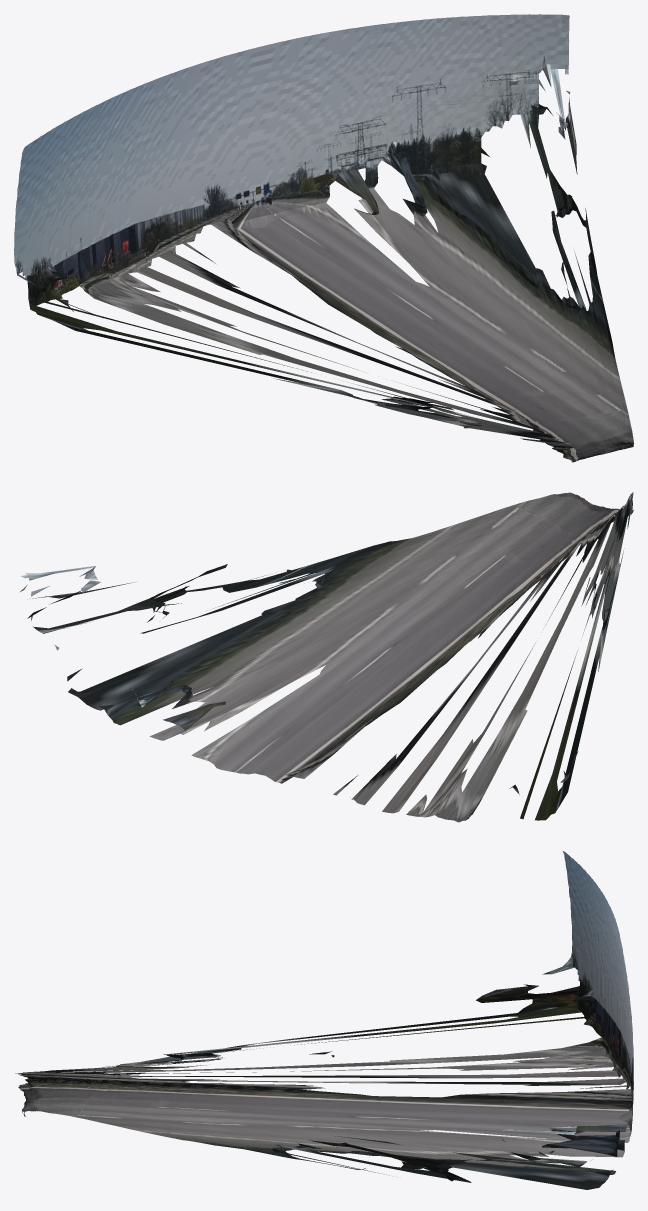
The picture shows the model from 3 angles, top to bottom: view 1: azimuth 30°, elevation 25°; view 2: azimuth 150°, elevation 25°; view 3: azimuth 270°, elevation 25°; orthographic projection. The views are drawn at different scales.
Visible parts, largest first — view 1: defaultobject; view 2: defaultobject; view 3: defaultobject.
Boxes of the visible parts, box(x1,y1,x2,y2) form: defaultobject: box(14, 14, 633, 462); defaultobject: box(19, 492, 633, 822); defaultobject: box(15, 851, 633, 1189).
Size of the model in its own units: 41.06 by 13.76 by 45.
1 material, 1 textured.
